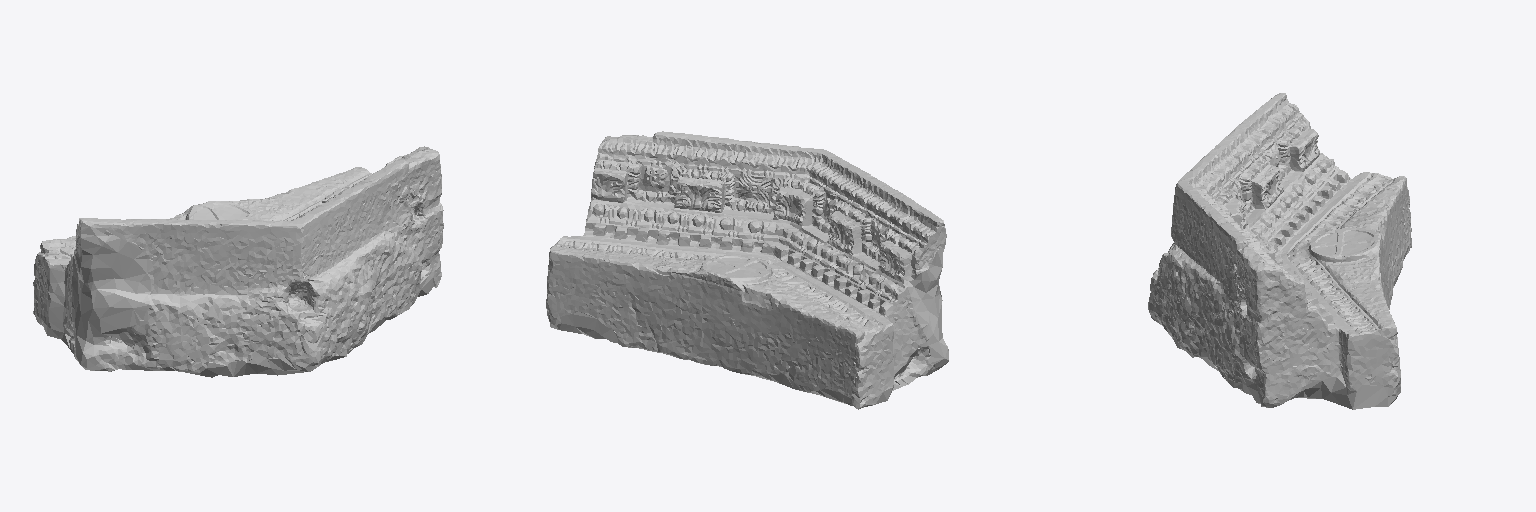
File: giebelblock_01.obj
The picture shows the model from 3 angles: view 1: azimuth 30°, elevation 25°; view 2: azimuth 150°, elevation 25°; view 3: azimuth 270°, elevation 25°; orthographic projection.
Visible parts, largest first — view 1: lowpoly_textured; view 2: lowpoly_textured; view 3: lowpoly_textured.
Boxes of the visible parts, x1,y1,x2,y2 form: lowpoly_textured: [33, 146, 443, 377]; lowpoly_textured: [546, 131, 948, 409]; lowpoly_textured: [1148, 93, 1411, 409].
Size of the model in its own units: 2.46 by 1.03 by 1.58.